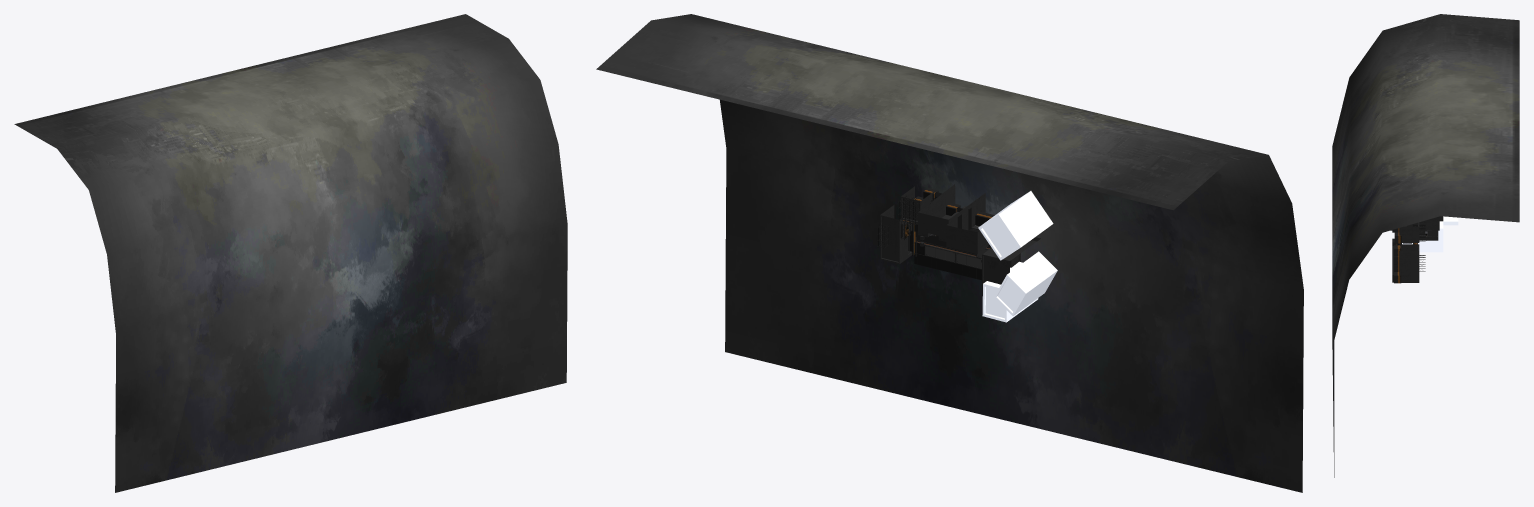
File: BATTLE.fbx
3 views of the same model, side by side, from view 1: azimuth 30°, elevation 25°; view 2: azimuth 150°, elevation 25°; view 3: azimuth 270°, elevation 25° (orthographic). The views are drawn at different scales.
Visible parts, largest first — view 1: BG_Qcity; view 2: BG_Qcity, Shadow (1), Shadow (3), S_export_cube144, S_Outworld_prop_0374, S_export_cube0, Qcity_low:S_Outworld_21231, Shadow (4); view 3: BG_Qcity, S_export_cube0, Shadow (4), S_export_cube216, S_export_cube144.
Part boxes in pixels (box(x1,y1,x2,y2)): BG_Qcity: box(14, 14, 567, 492); BG_Qcity: box(596, 14, 1303, 492); Shadow (1): box(978, 191, 1053, 260); Shadow (3): box(994, 251, 1057, 315); S_export_cube144: box(918, 184, 985, 241); S_Outworld_prop_0374: box(946, 202, 989, 254); S_export_cube0: box(880, 205, 912, 264); Qcity_low:S_Outworld_21231: box(981, 237, 1040, 294); Shadow (4): box(982, 261, 1038, 322); BG_Qcity: box(1332, 14, 1519, 477); S_export_cube0: box(1399, 244, 1419, 282); Shadow (4): box(1402, 221, 1443, 252); S_export_cube216: box(1399, 222, 1419, 242); S_export_cube144: box(1391, 216, 1439, 230).
Size of the model in its own units: 0.5573 by 0.3558 by 0.2179.
